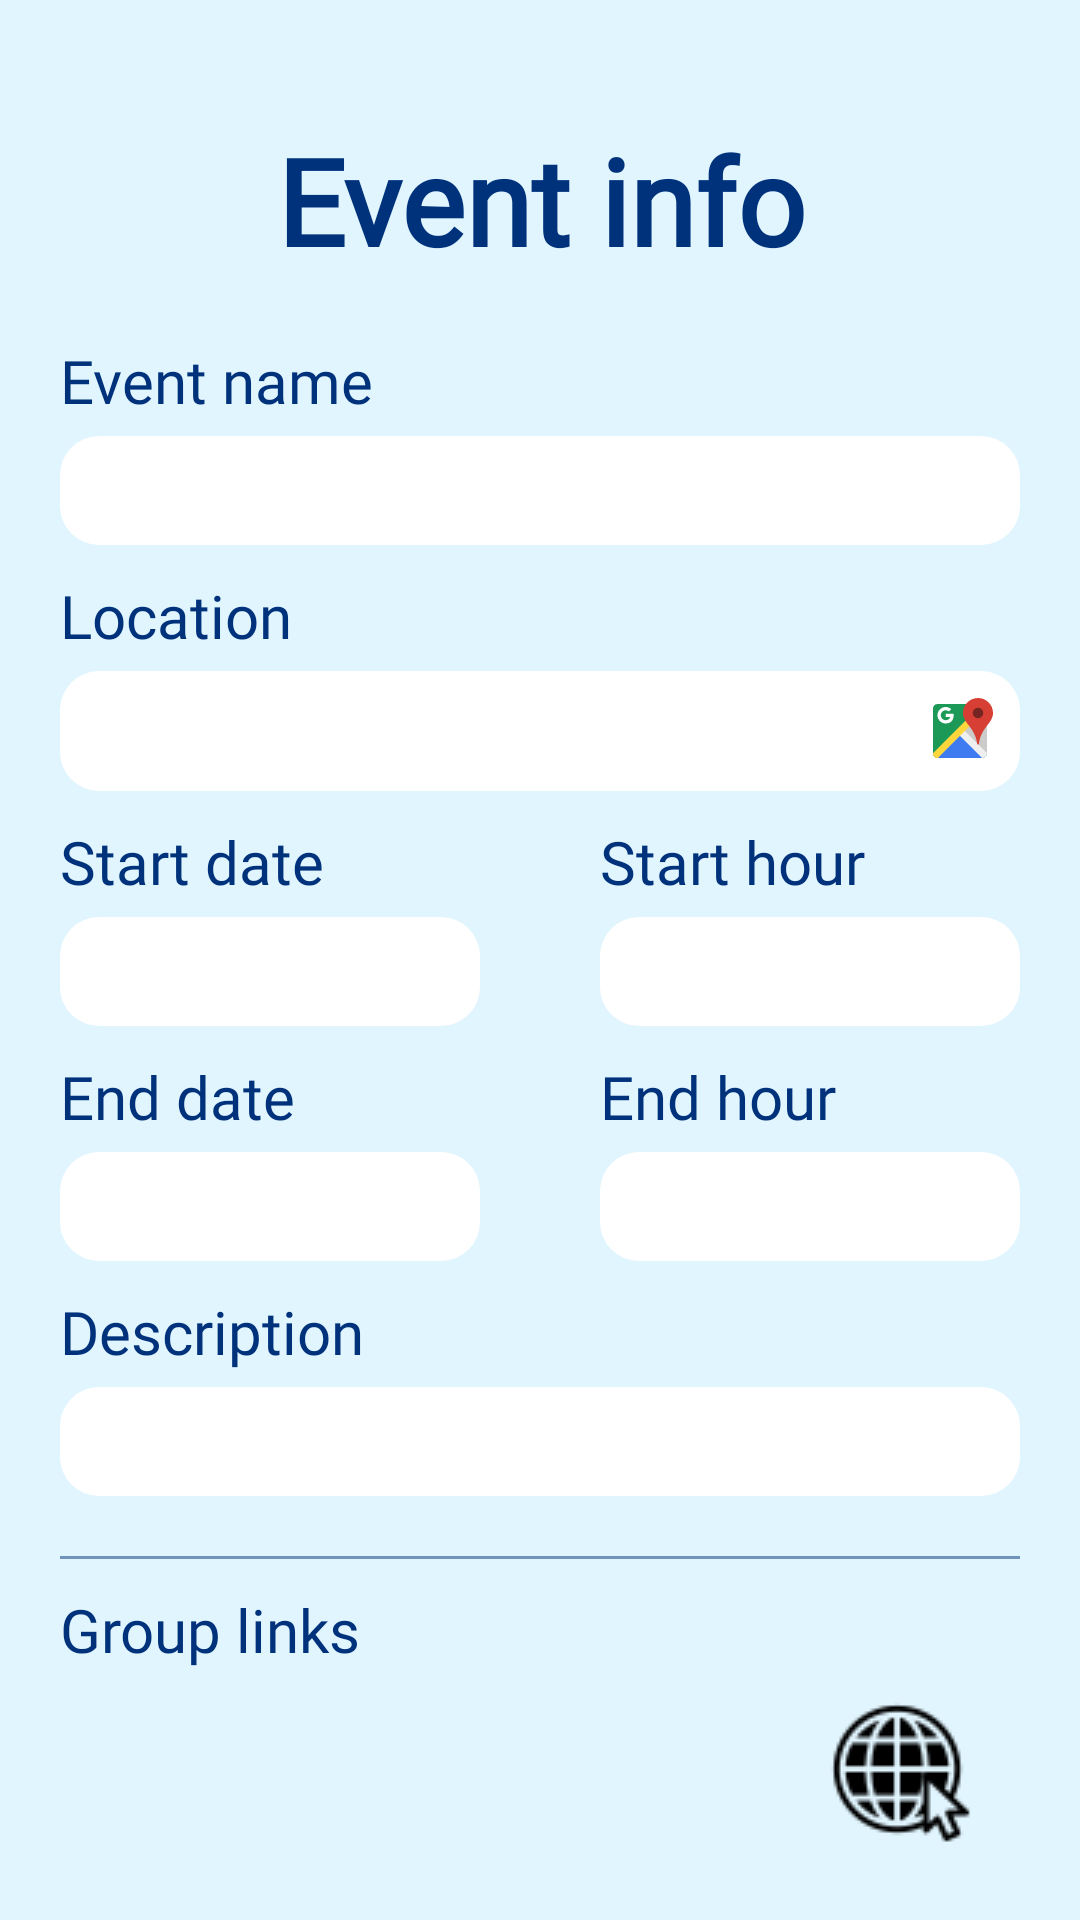

Point at icon controls on the screen. Image size 1080 x 1920, points as point (x, y).
website: point (901, 1773)
